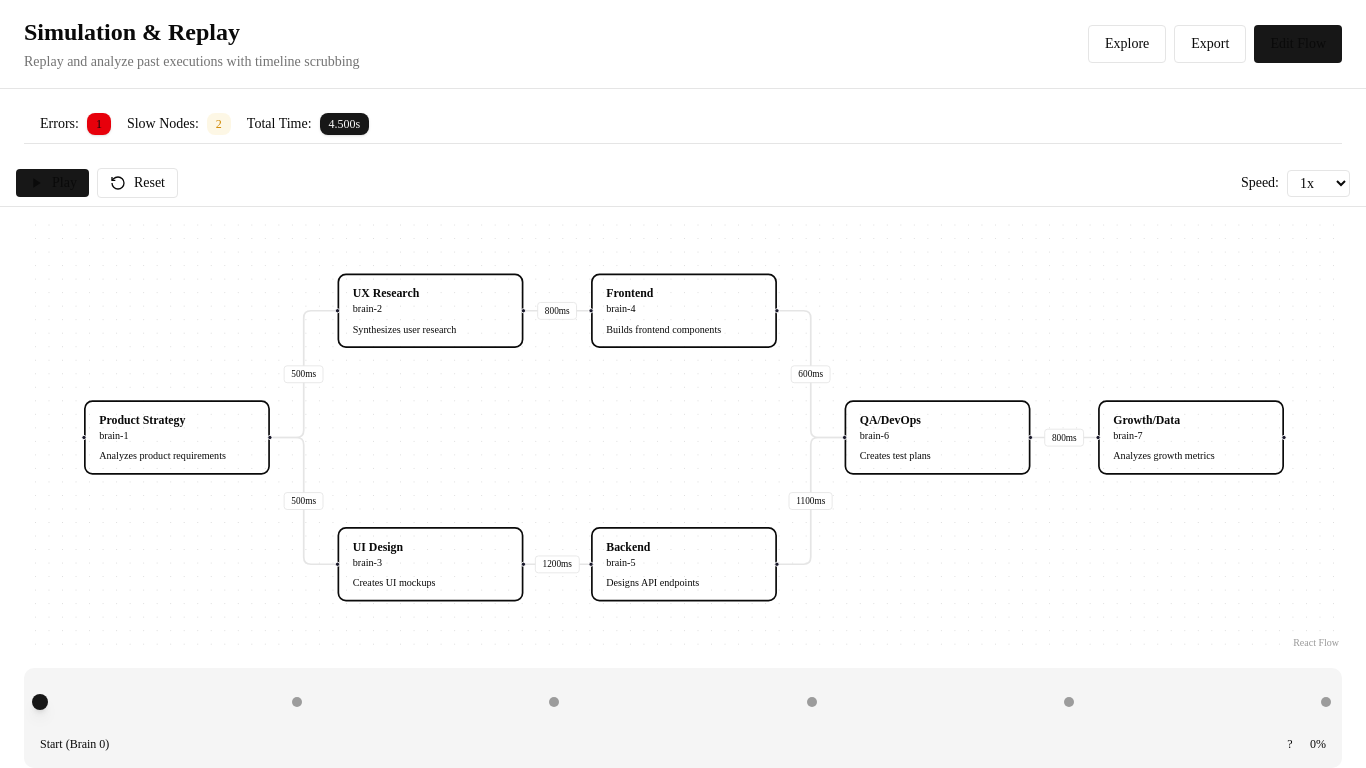
Test: Simulation Playback Flow - Integration Tests › Phase 3: Pause Playback › should pause playback when pause button is clicked
// Start playback
Click the button "Play". click: (52, 183)
box: [16, 169, 89, 197]
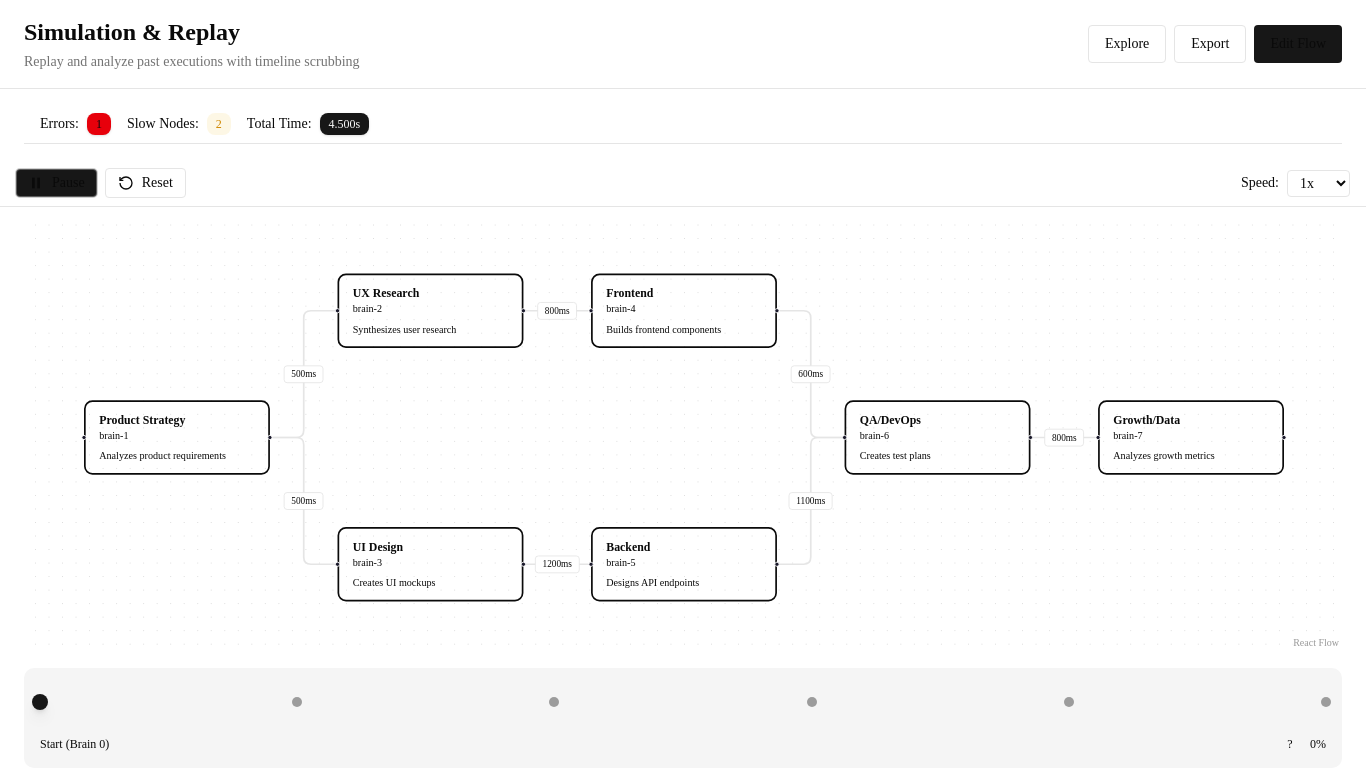
// Pause playback
Click the button "Pause". click: (56, 183)
box: [16, 169, 97, 197]
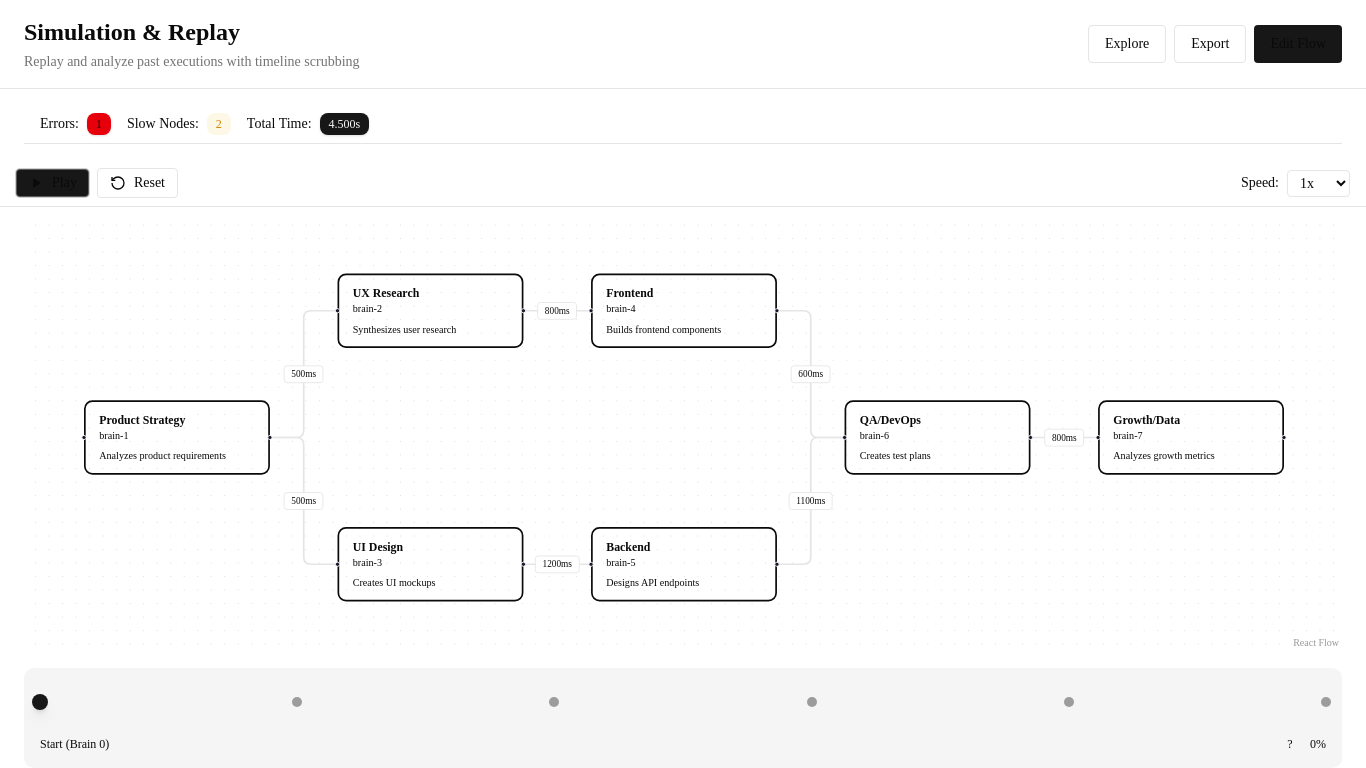
expect the button "Play" is shown: met, box [16, 169, 89, 197]
